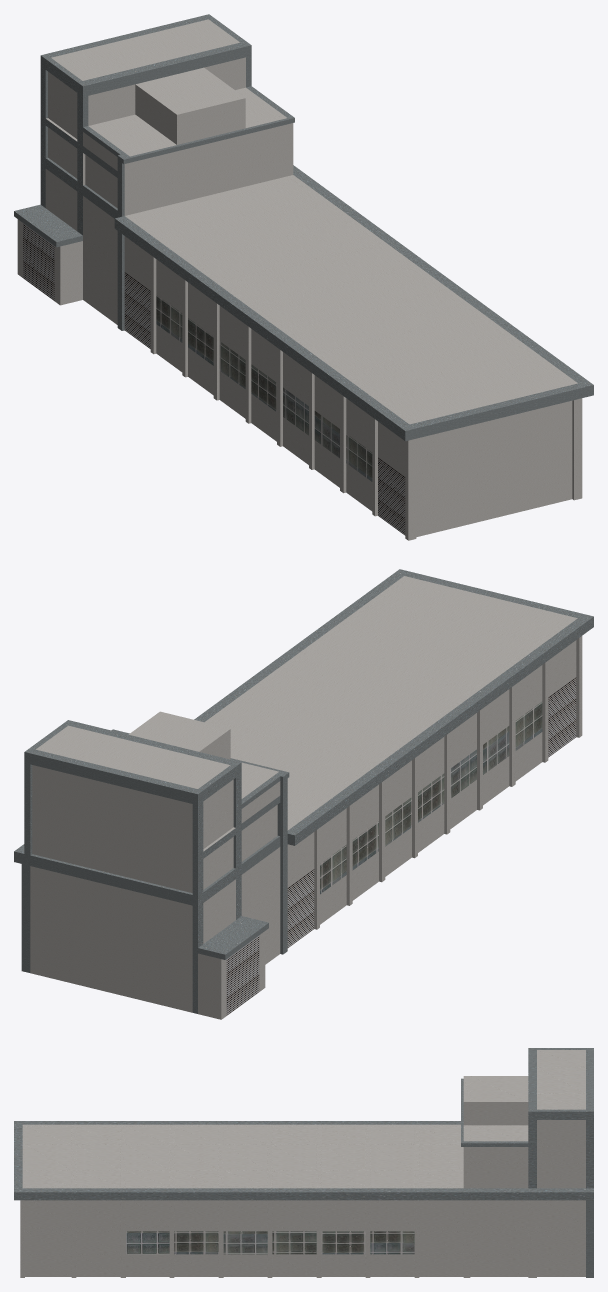
Rendered from kojo.fbx.
3 renders of one model, top to bottom at view 1: azimuth 30°, elevation 25°; view 2: azimuth 150°, elevation 25°; view 3: azimuth 270°, elevation 25°, orthographic. The views are drawn at different scales.
Visible parts, largest first — view 1: Cube; view 2: Cube; view 3: Cube.
Part boxes in pixels (x1=…): Cube: x1=14, y1=14, x2=593, y2=540; Cube: x1=14, y1=569, x2=593, y2=1019; Cube: x1=14, y1=1048, x2=593, y2=1277.
Bounding box in the file's own units: 931 × 926 × 2944.
